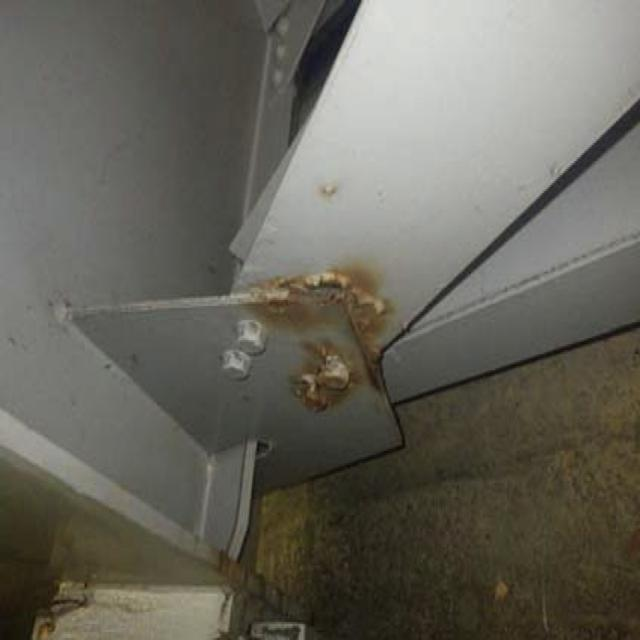corrosion: (235, 233, 406, 417)
